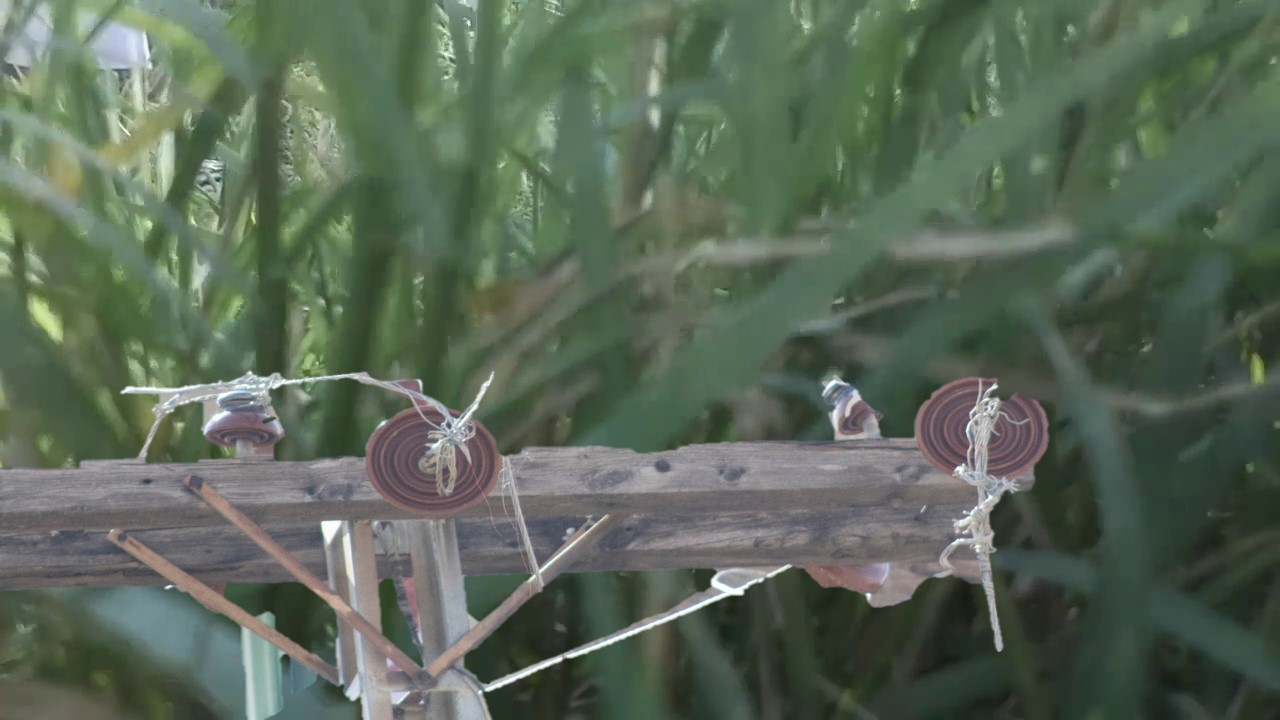defect_pin: (818, 370, 884, 444)
insulator_disc: (361, 400, 505, 522), (915, 373, 1052, 493)
insulator_pin: (199, 381, 287, 457)
